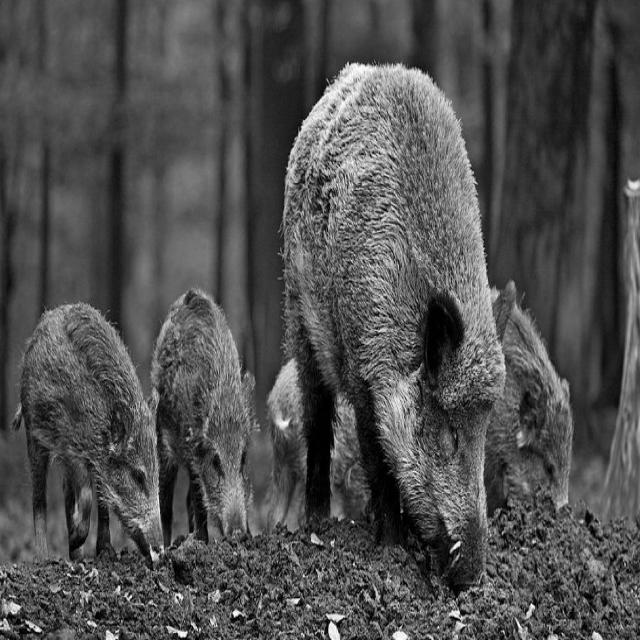boar: (283, 63, 504, 586), (12, 302, 162, 560), (150, 288, 254, 543), (483, 304, 572, 513)
